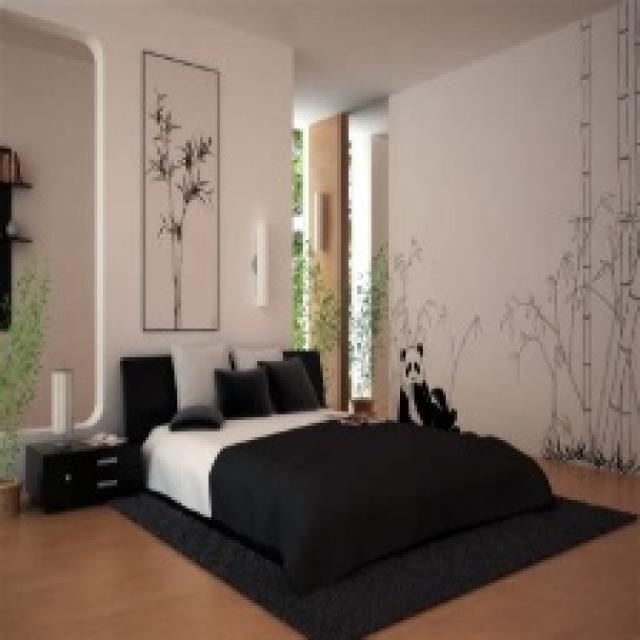Bed: (117, 346, 554, 594)
